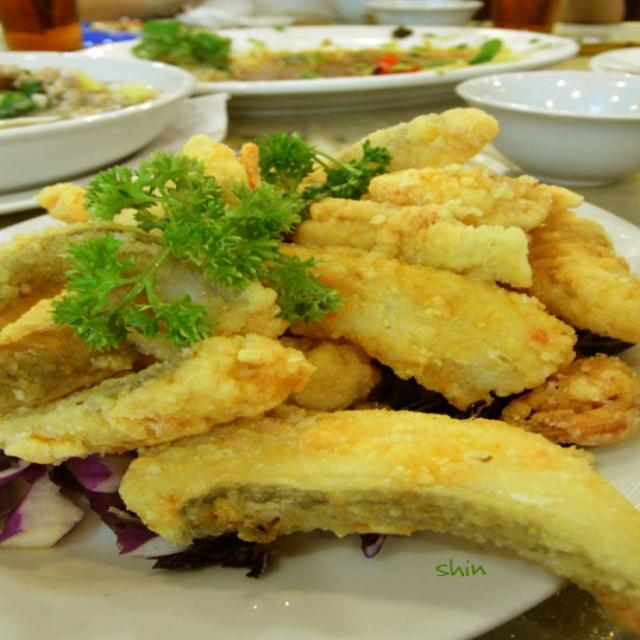炸货点心: (0, 124, 640, 610)
熟制海鲜: (0, 124, 640, 610)
